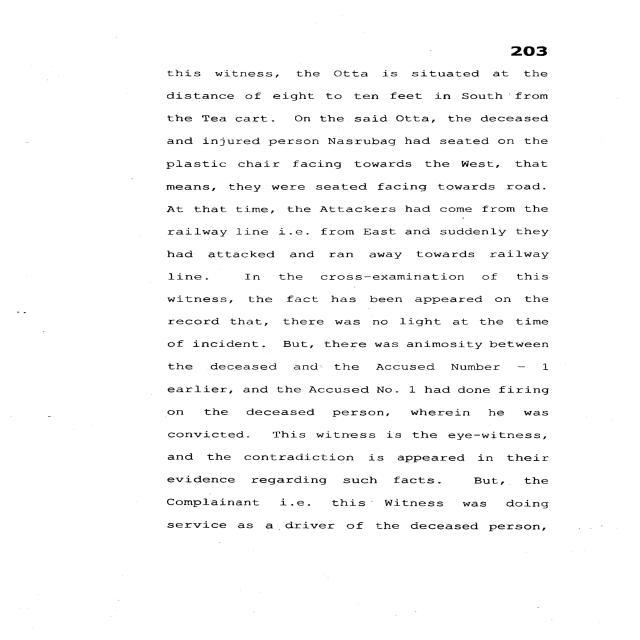page-number: (429, 1, 634, 62)
